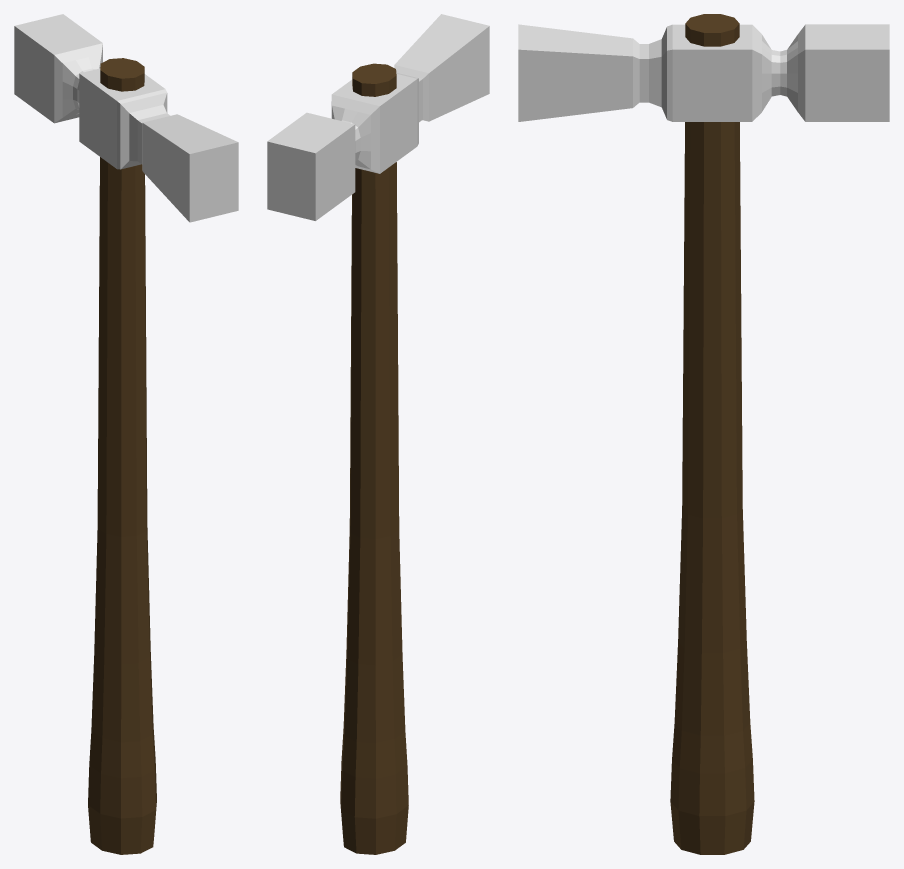
The model's file is hammer-beemboom.glb.
3 renders of one model, left to right at view 1: azimuth 30°, elevation 25°; view 2: azimuth 150°, elevation 25°; view 3: azimuth 270°, elevation 25°, orthographic. The views are drawn at different scales.
Parts seen in each view (by area): view 1: hammer_beemboom; view 2: hammer_beemboom; view 3: hammer_beemboom.
Boxes of the visible parts, x1=… form: hammer_beemboom: x1=14, y1=14, x2=238, y2=854; hammer_beemboom: x1=267, y1=14, x2=489, y2=854; hammer_beemboom: x1=518, y1=14, x2=889, y2=854.
Size of the model in its own units: 1.07 by 13.87 by 5.71.
